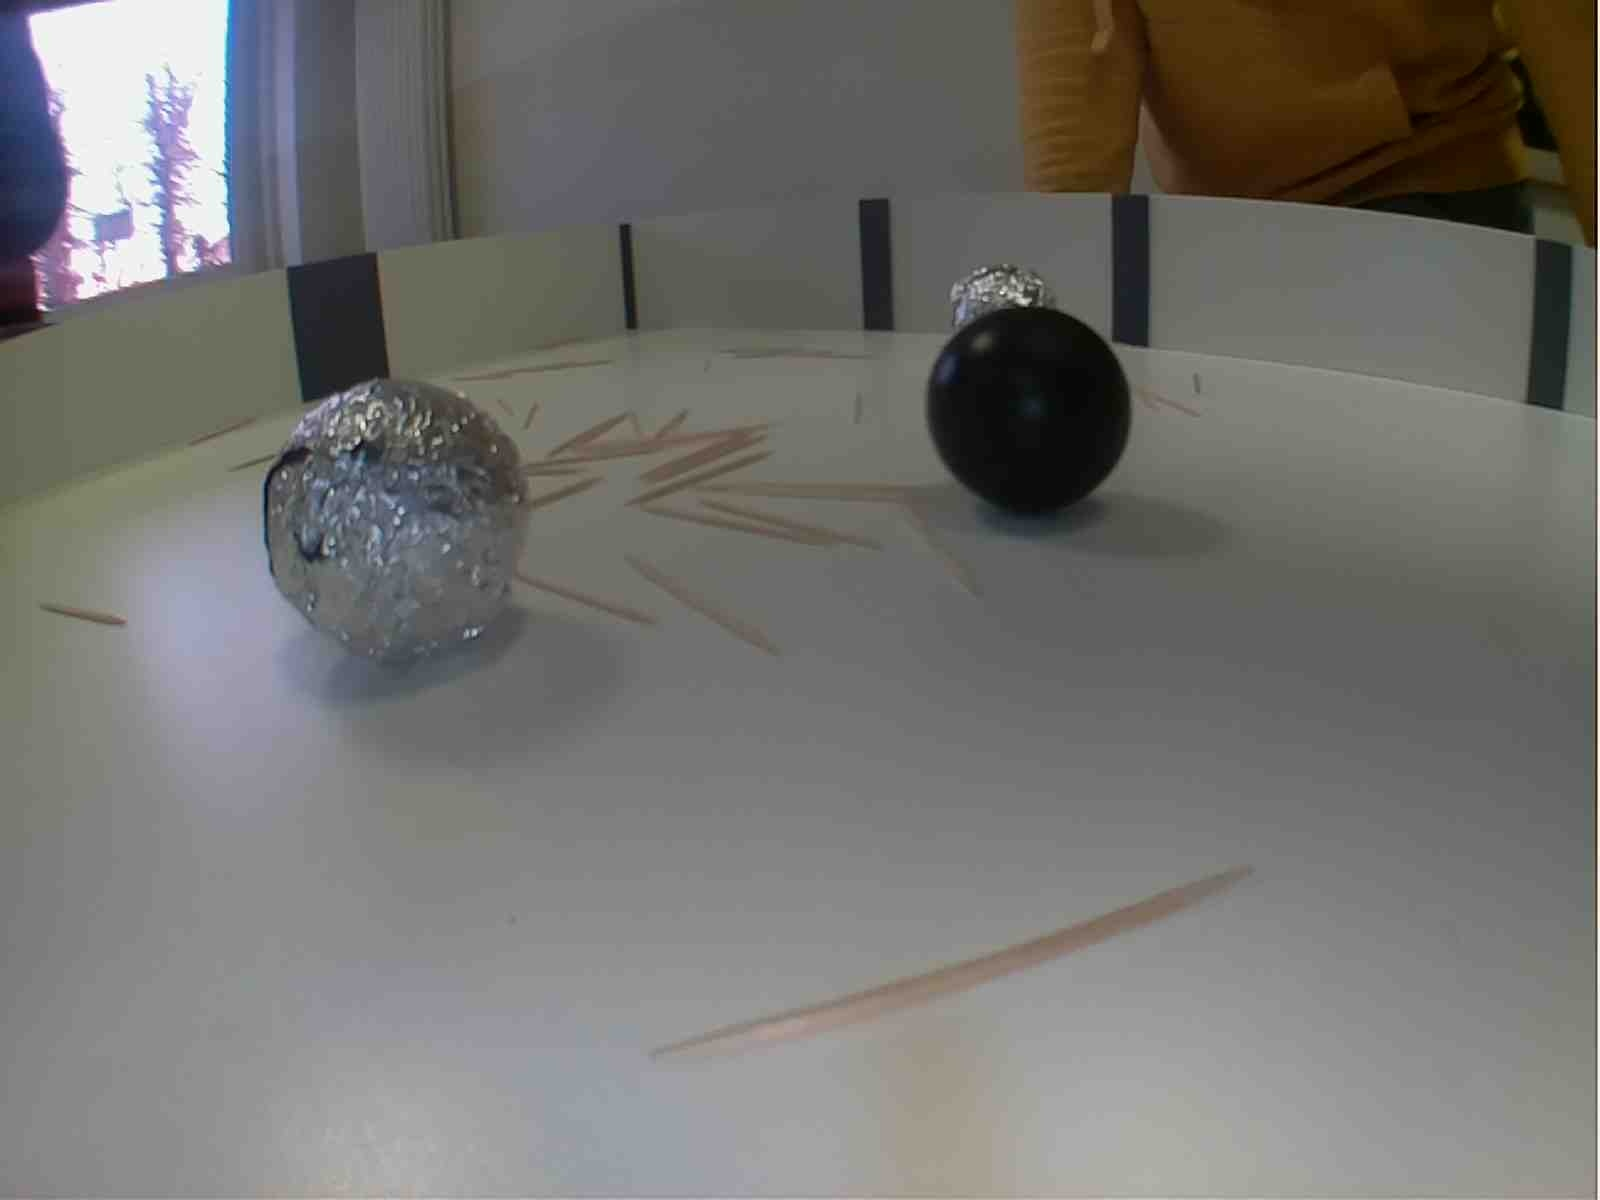bianca: (256, 377, 532, 673), (944, 257, 1060, 342)
nera: (921, 308, 1134, 524)
